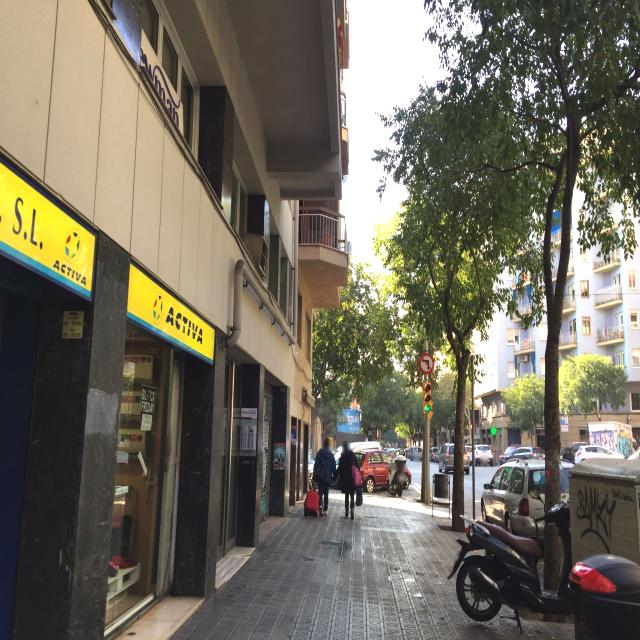bike: (453, 466, 568, 625), (386, 456, 410, 498)
car: (480, 459, 564, 541), (350, 448, 400, 494), (438, 442, 470, 475), (573, 443, 618, 462), (472, 443, 494, 467), (409, 446, 424, 461), (559, 446, 573, 462), (429, 446, 440, 462)
